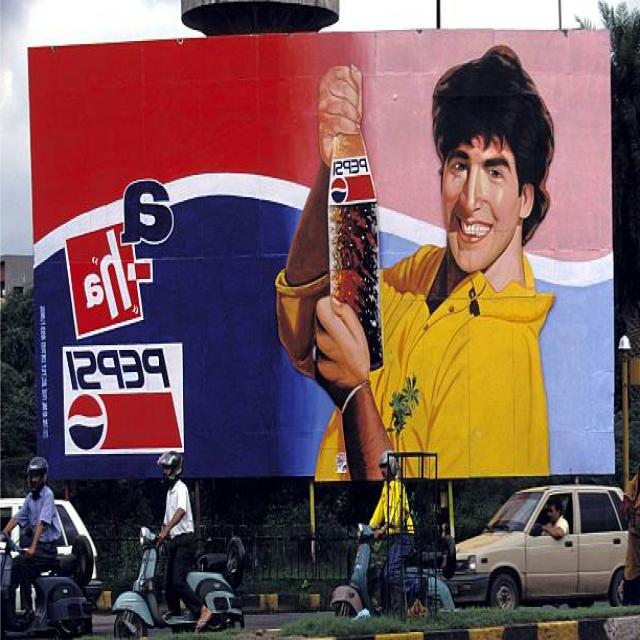Werbetafel frei: (41, 26, 610, 476)
